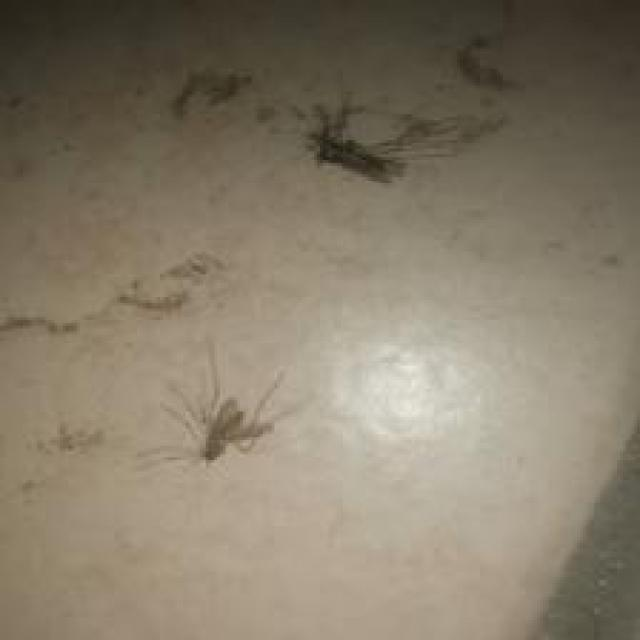Culex: (136, 334, 301, 474)
